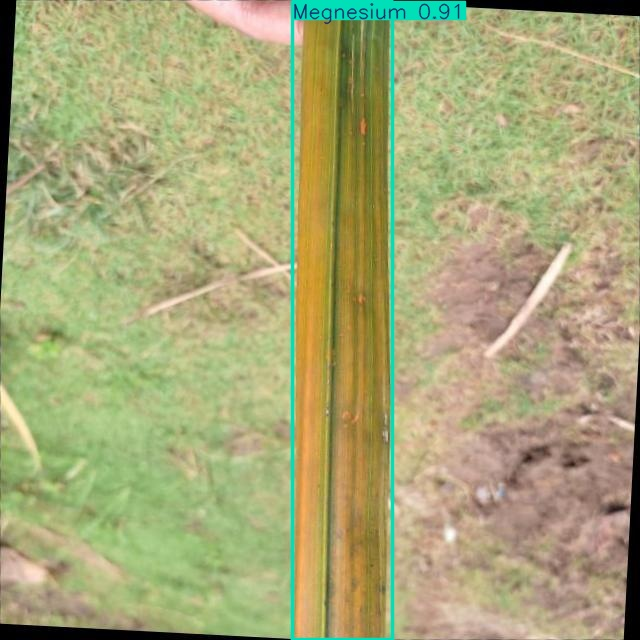Megnesium: (292, 2, 392, 639)
